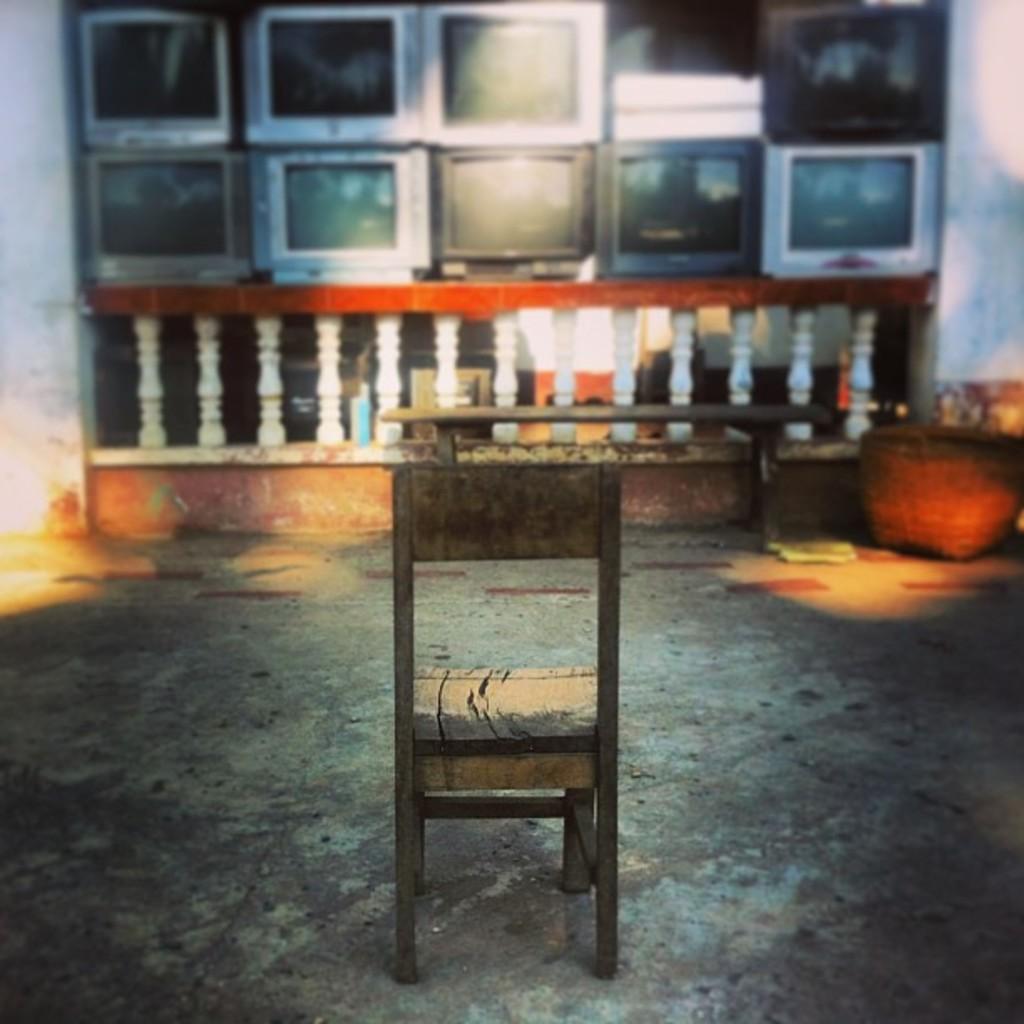Chair: (350, 373, 663, 979)
